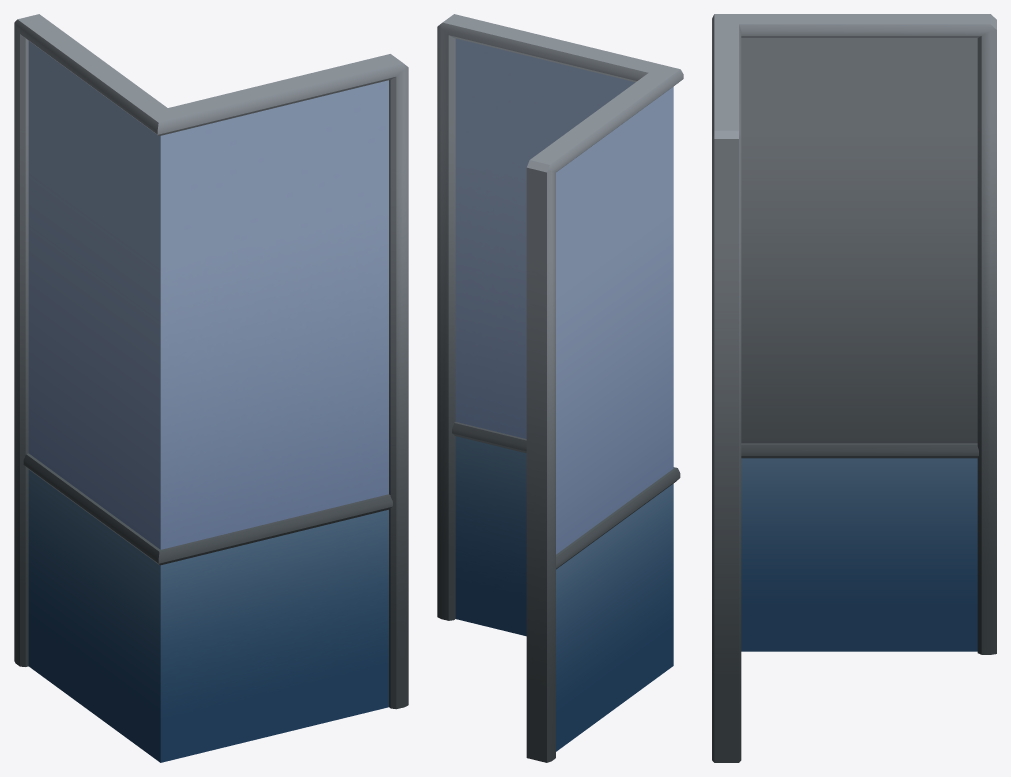
File: Wall_02_Corner.fbx
3 renders of one model, left to right at view 1: azimuth 30°, elevation 25°; view 2: azimuth 150°, elevation 25°; view 3: azimuth 270°, elevation 25°, orthographic. The views are drawn at different scales.
Visible parts, largest first — view 1: Box013; view 2: Box013; view 3: Box013.
Part boxes in pixels (bbox=[...]): Box013: bbox=[14, 14, 408, 762]; Box013: bbox=[437, 14, 683, 762]; Box013: bbox=[712, 14, 996, 762].
Size of the model in its own units: 128 by 313 by 128.
